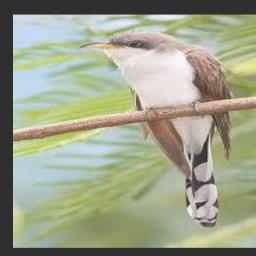Cuckoo: (80, 30, 232, 227)
